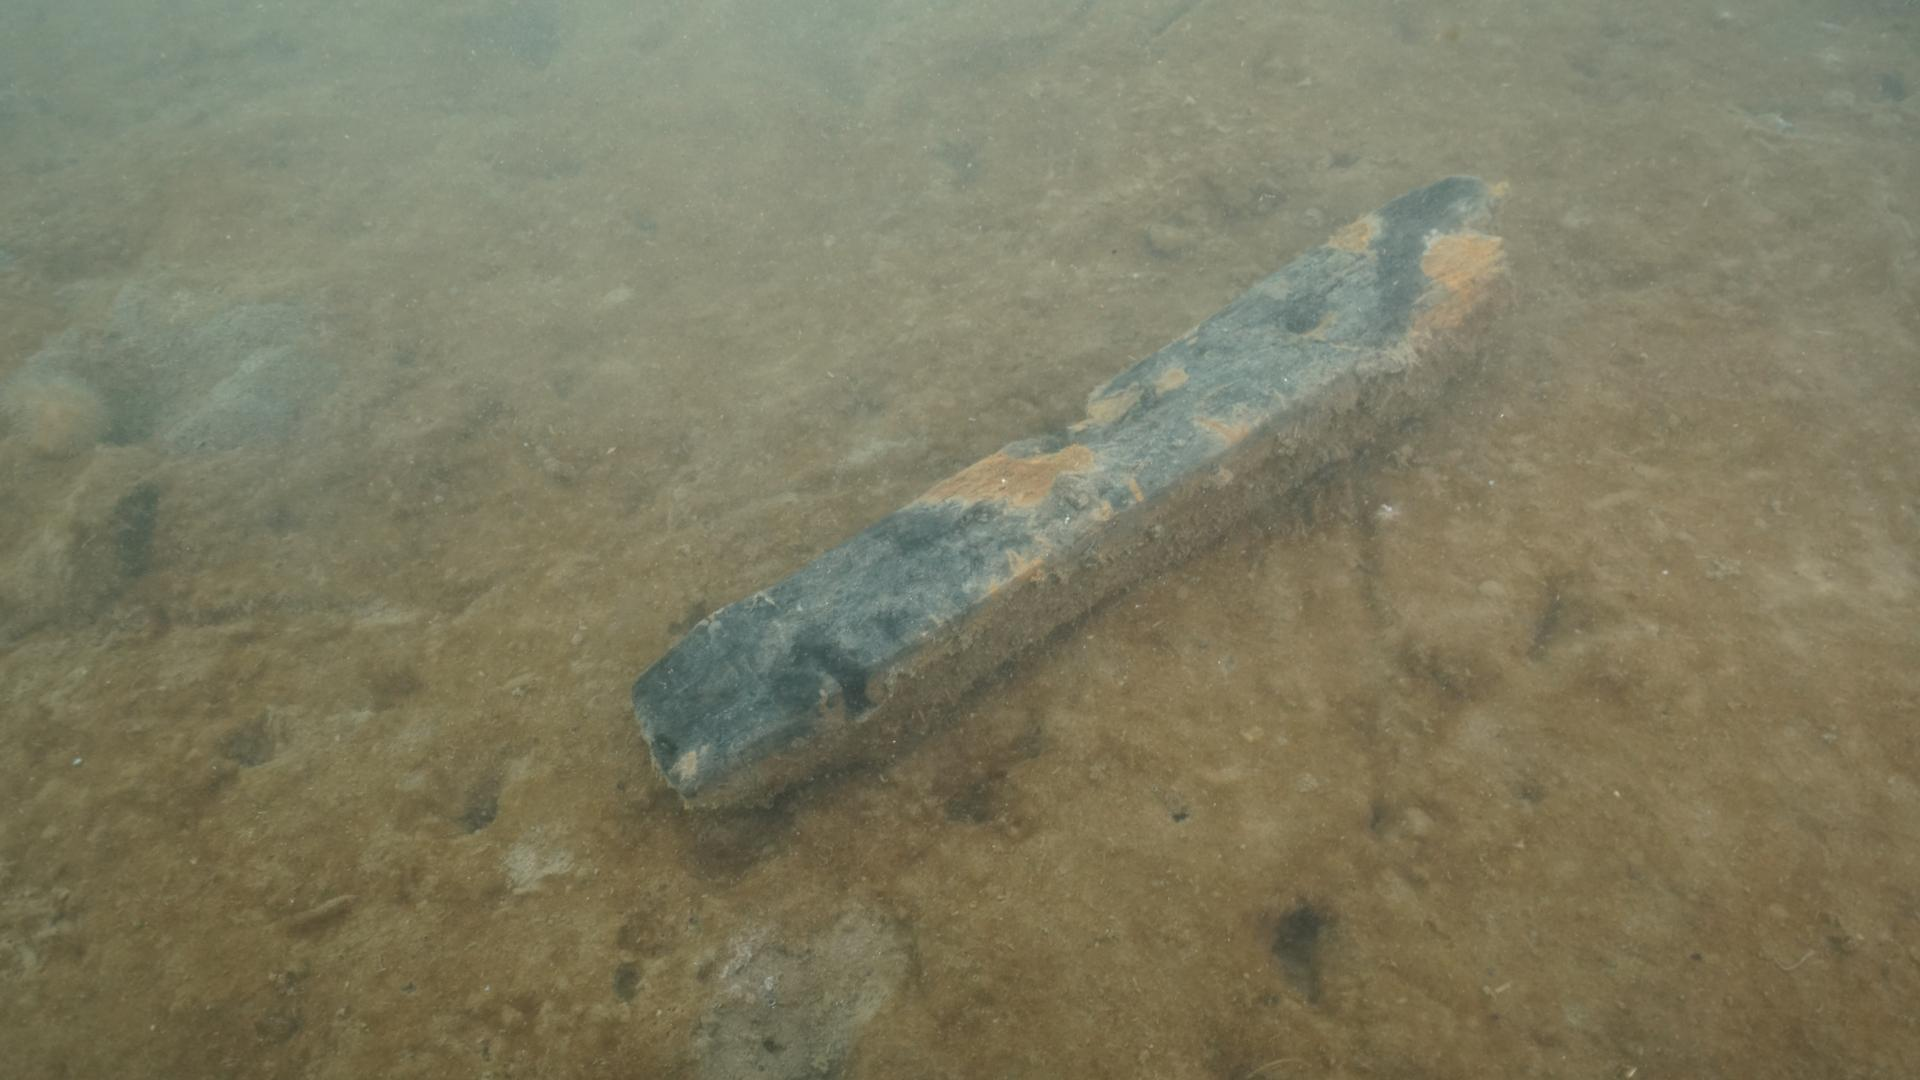wood: (624, 167, 1524, 873)
